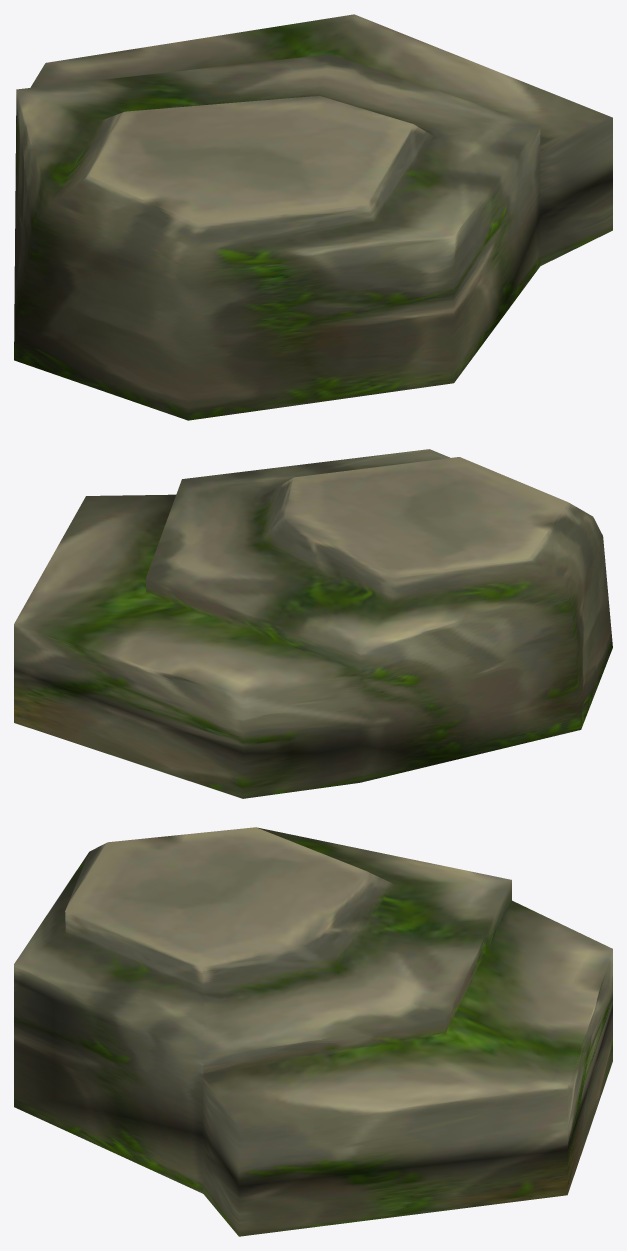
The model's file is RockFormation_4_5 (52).fbx.
3 renders of one model, top to bottom at view 1: azimuth 30°, elevation 25°; view 2: azimuth 150°, elevation 25°; view 3: azimuth 270°, elevation 25°, orthographic. The views are drawn at different scales.
Visible parts, largest first — view 1: RockFormation_4_5 (52); view 2: RockFormation_4_5 (52); view 3: RockFormation_4_5 (52).
Boxes of the visible parts, x1,y1,x2,y2 form: RockFormation_4_5 (52): (14,14,612,420); RockFormation_4_5 (52): (14,449,612,798); RockFormation_4_5 (52): (14,827,612,1236).
Bounding box in the file's own units: 5.95 × 1.7 × 5.5.
